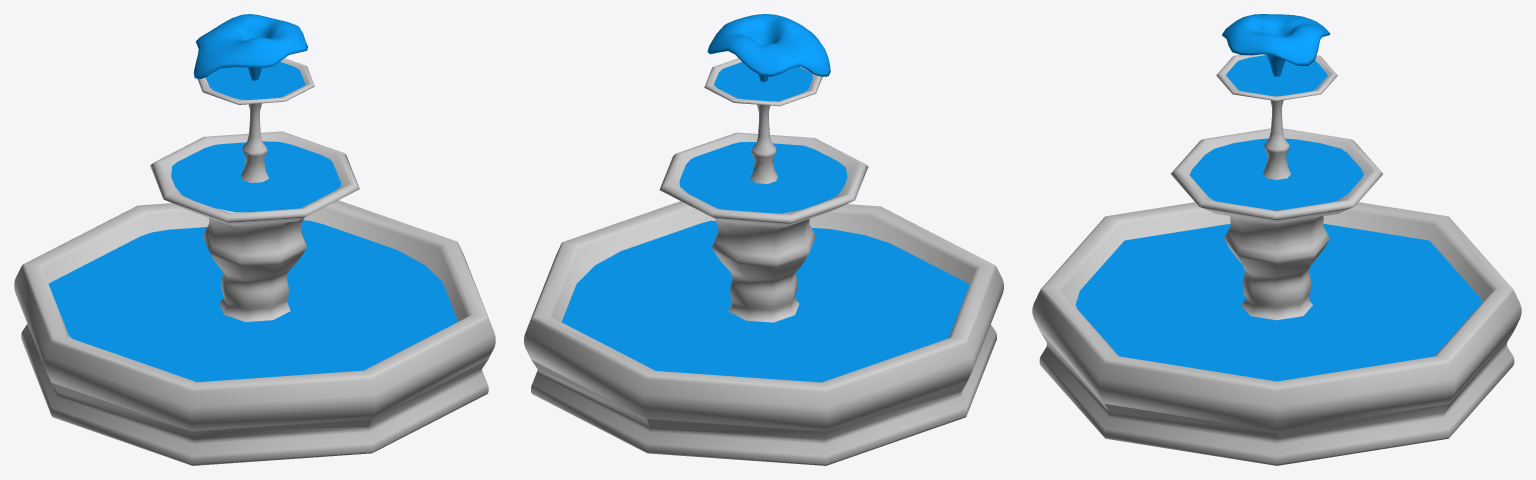
The model's file is FuenteParque.fbx.
3 views of the same model, side by side, from view 1: azimuth 30°, elevation 25°; view 2: azimuth 150°, elevation 25°; view 3: azimuth 270°, elevation 25° (orthographic).
Parts seen in each view (by area): view 1: Cube, Cylinder; view 2: Cube, Cylinder; view 3: Cube, Cylinder.
Part boxes in pixels (left/top/right/bottom): Cube: left=14, top=58, right=495, bottom=465; Cylinder: left=48, top=14, right=457, bottom=382; Cube: left=524, top=58, right=1003, bottom=465; Cylinder: left=561, top=14, right=969, bottom=382; Cube: left=1032, top=54, right=1521, bottom=465; Cylinder: left=1075, top=14, right=1482, bottom=381.
Size of the model in its own units: 4.32 by 3.36 by 4.32.
